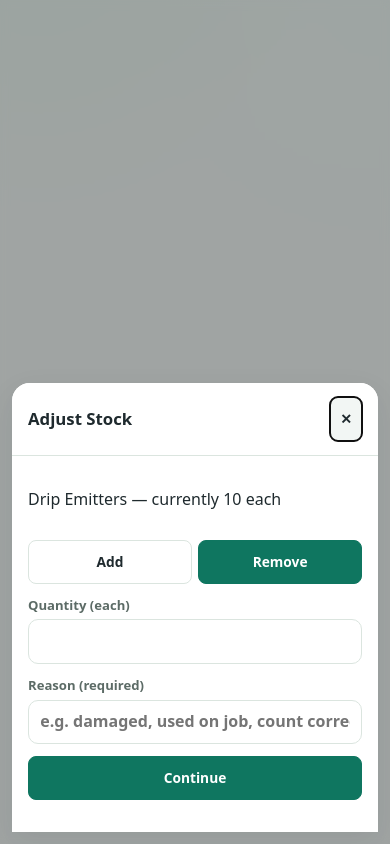
Test case: AdjustStockSheet › blocks removing more than the currently known on-hand quantity client-side, before hitting the server
Type "999" into the number field labelled "Quantity (each)".
click(195, 642); type("999")  # box [28,619,362,664]
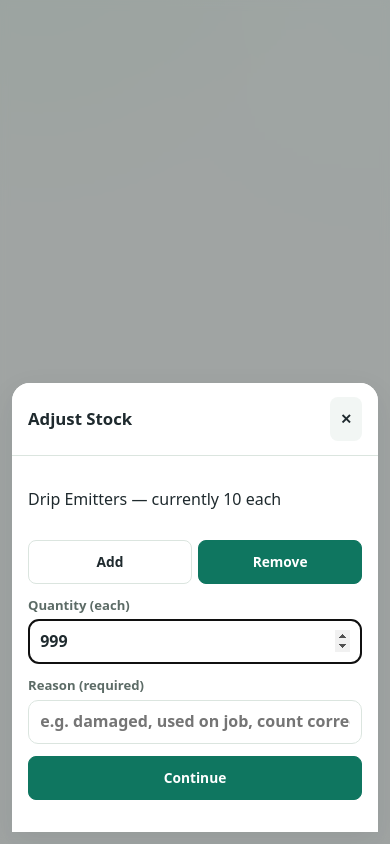
Type "count correction" into the field labelled "Reason (required)".
click(195, 722); type("count correction")  # box [28,700,362,744]
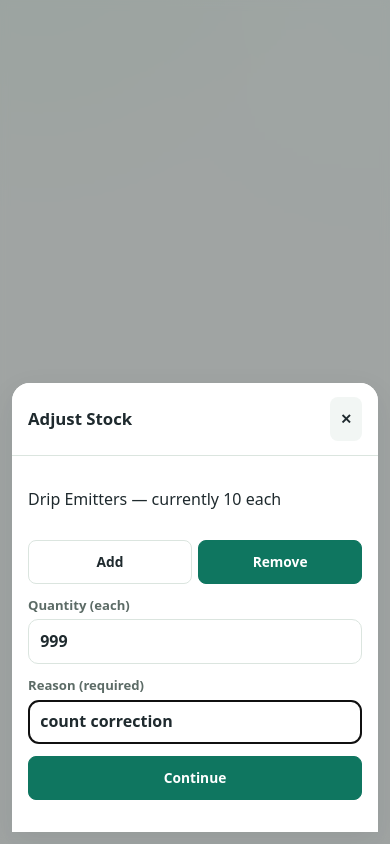
Click the button "Continue".
click(195, 778)  # box [28,756,362,800]
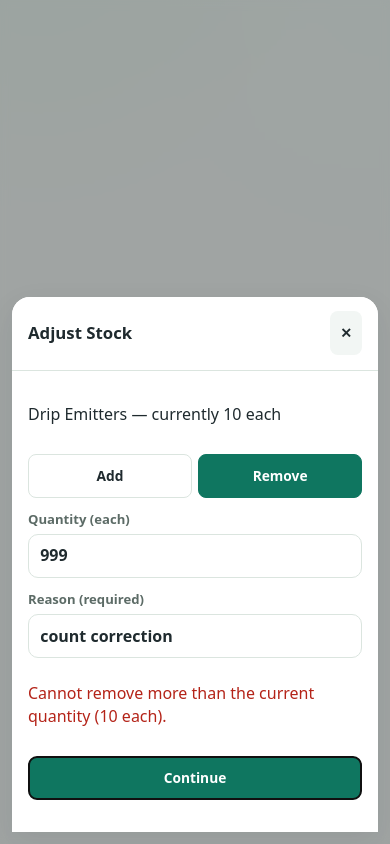
Now the text "Cannot remove more than the current quantity (10 each)." is shown, box [28,682,362,728]
